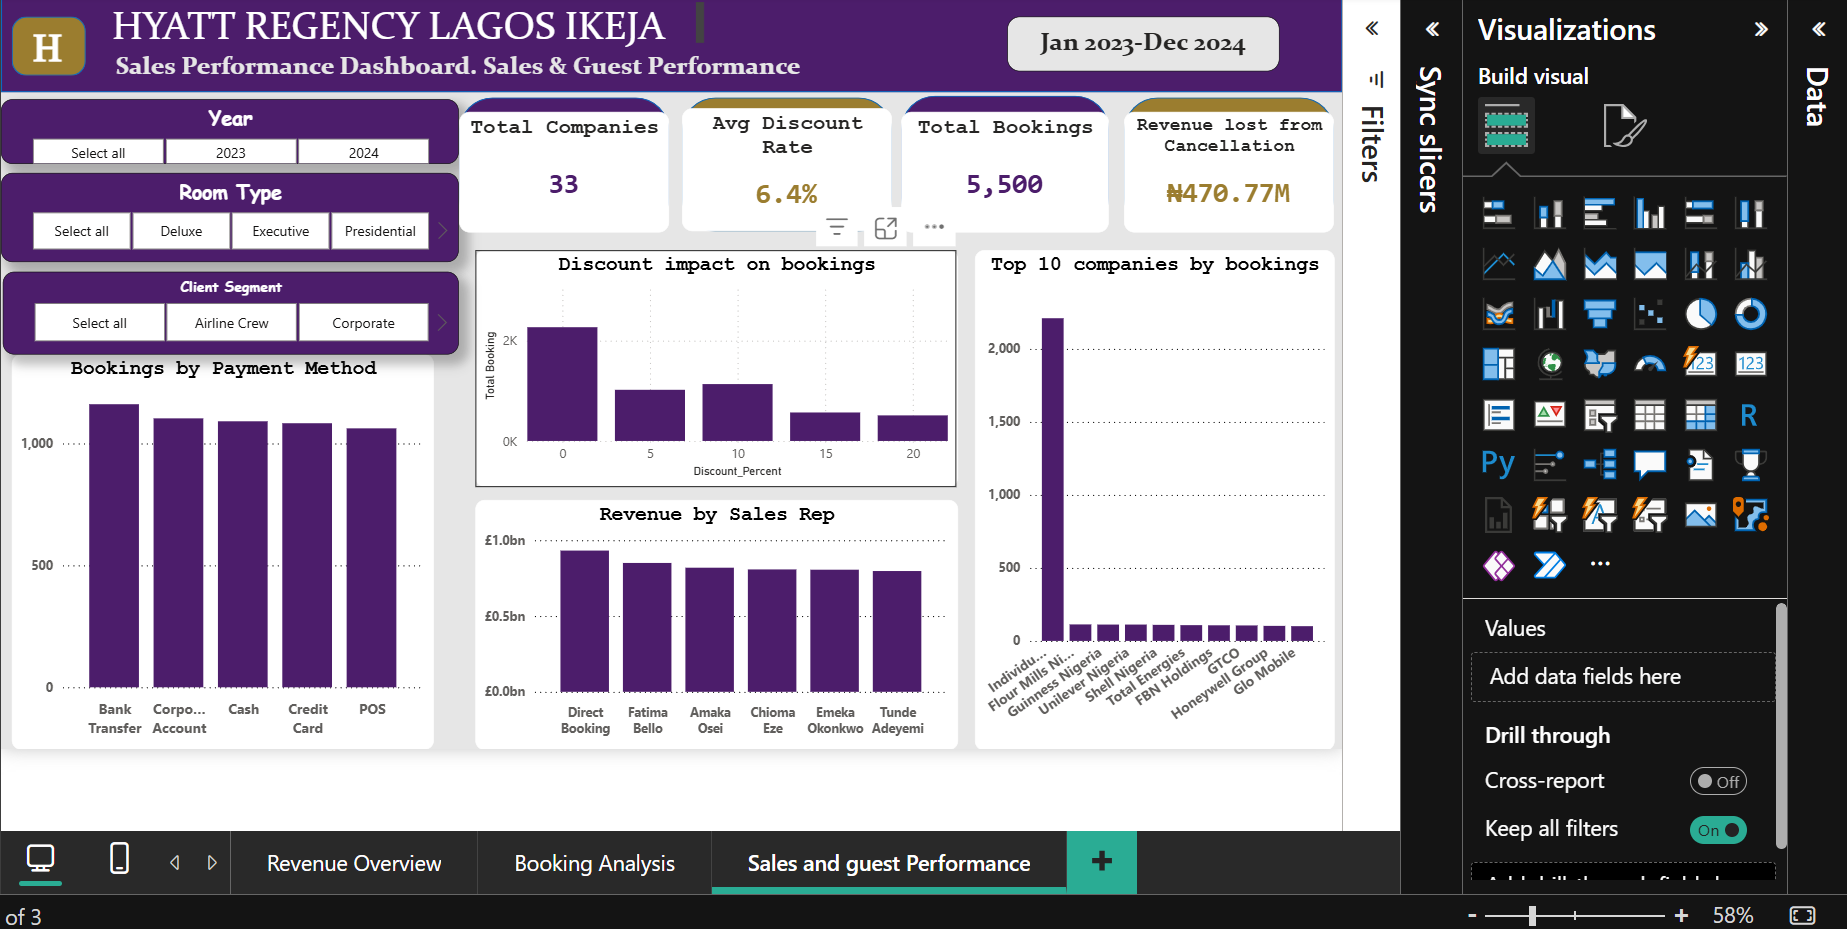

What the dashboard file says about the page in this screenshot:
{"tool":"powerbi","page":{"name":"Sales and guest Performance","canvas":[1280,720],"ordinal":2},"visuals":[{"type":"shape","box":[0,0,1280.3,92.7],"z":0},{"type":"slicer","title":"Year","fields":{"Values":["Hyatt_Ikeja_Hotel_Booking_Data.Year"]},"box":[0,100.2,437.1,61.8],"z":1000},{"type":"slicer","title":"Room Type","fields":{"Values":["Hyatt_Ikeja_Hotel_Booking_Data.Room_Type"]},"box":[0,170.6,437.1,85.3],"z":2000},{"type":"shape","box":[437.1,98.1,200.4,127.9],"z":3000},{"type":"shape","box":[1072.6,98.1,200.4,127.9],"z":4000},{"type":"shape","box":[859.3,96,198.3,130.1],"z":5000},{"type":"shape","box":[650.4,98.1,200.4,127.9],"z":6000},{"type":"card","title":"Total Companies","fields":{"Values":["Hyatt_Ikeja_Hotel_Booking_Data.Total Company"]},"box":[437.1,110.9,200.4,115.1],"z":7000},{"type":"card","title":"Avg Discount Rate","fields":{"Values":["Measures (2).Average Discount"]},"box":[650.4,108.7,200.4,117.3],"z":8000},{"type":"card","title":"Total Bookings","fields":{"Values":["Measures (2).Total Booking"]},"box":[859.3,110.9,198.3,115.1],"z":9000},{"type":"card","title":"Revenue lost from Cancellation","fields":{"Values":["Sum(Hyatt_Ikeja_Hotel_Booking_Data.Lost Rev from Cancellation)"]},"box":[1072.6,110.9,200.4,115.1],"z":10000},{"type":"shape","box":[10.1,20.2,70.6,56.5],"z":11000},{"type":"textbox","box":[26.2,20.2,46.4,66.5],"z":12000},{"type":"columnChart","title":"Bookings by Payment Method","fields":{"Category":["Hyatt_Ikeja_Hotel_Booking_Data.Payment_Method"],"Y":["Measures (2).Total Booking"]},"box":[10.7,343.3,403,377.4],"z":13000},{"type":"clusteredColumnChart","title":"Discount impact on bookings","fields":{"Category":["Hyatt_Ikeja_Hotel_Booking_Data.Discount_Percent"],"Y":["Measures (2).Total Booking"]},"box":[452.1,243.1,460.6,226],"z":14000},{"type":"clusteredColumnChart","title":"Top 10 companies by bookings","fields":{"Y":["Measures (2).Total Booking"],"Category":["Hyatt_Ikeja_Hotel_Booking_Data.Company_Name"]},"box":[929.7,243.1,343.3,477.6],"z":15000},{"type":"slicer","title":"Client Segment","fields":{"Values":["Hyatt_Ikeja_Hotel_Booking_Data.Client_Segment"]},"box":[2.1,264.4,435,78.9],"z":16000},{"type":"textbox","box":[100.8,2,574.6,52.4],"z":17000},{"type":"textbox","box":[105.2,48,713.2,49.5],"z":18000},{"type":"textbox","box":[959.7,20.2,260.1,52.4],"z":19000},{"type":"clusteredColumnChart","title":"Revenue by Sales Rep","fields":{"Y":["Measures (2).Total Revenue"],"Category":["Hyatt_Ikeja_Hotel_Booking_Data.Sales_Rep"]},"box":[452.1,481.9,460.6,238.8],"z":20000}]}

Visuals, with their boxes on the page's 1280x720 design canvas (x1, y1, x2, y2). These are canvas units, not pixel positions in the 1847x929 screenshot, which may show the page scaled, cropped or inside an application window:
shape: 0,0,1280,93
"Year" slicer: 0,100,437,162
"Room Type" slicer: 0,171,437,256
shape: 437,98,638,226
shape: 1073,98,1273,226
shape: 859,96,1058,226
shape: 650,98,851,226
"Total Companies" card: 437,111,638,226
"Avg Discount Rate" card: 650,109,851,226
"Total Bookings" card: 859,111,1058,226
"Revenue lost from Cancellation" card: 1073,111,1273,226
shape: 10,20,81,77
textbox: 26,20,73,87
"Bookings by Payment Method" columnChart: 11,343,414,721
"Discount impact on bookings" clusteredColumnChart: 452,243,913,469
"Top 10 companies by bookings" clusteredColumnChart: 930,243,1273,721
"Client Segment" slicer: 2,264,437,343
textbox: 101,2,675,54
textbox: 105,48,818,98
textbox: 960,20,1220,73
"Revenue by Sales Rep" clusteredColumnChart: 452,482,913,721
